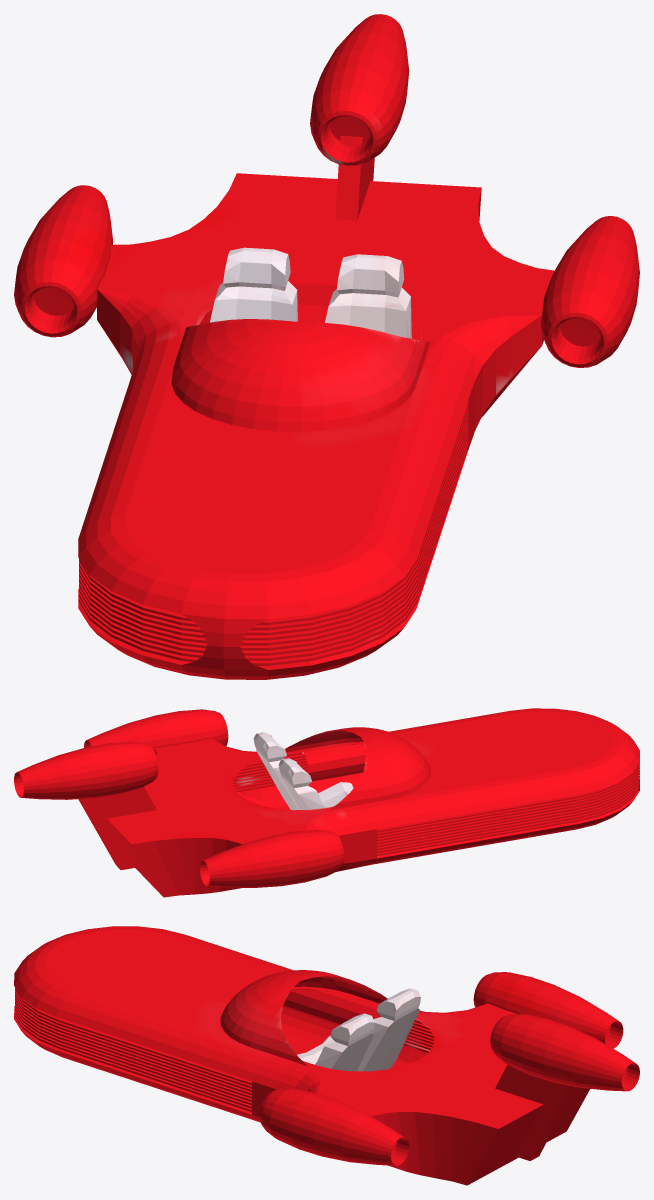
File: car.glb
The picture shows the model from 3 angles, top to bottom: view 1: azimuth 30°, elevation 25°; view 2: azimuth 150°, elevation 25°; view 3: azimuth 270°, elevation 25°; orthographic projection. The views are drawn at different scales.
Visible parts, largest first — view 1: imagetostl_mesh0; view 2: imagetostl_mesh0; view 3: imagetostl_mesh0.
Boxes of the visible parts, x1=… form: imagetostl_mesh0: x1=14, y1=14, x2=639, y2=679; imagetostl_mesh0: x1=14, y1=708, x2=639, y2=897; imagetostl_mesh0: x1=14, y1=926, x2=639, y2=1185.
Size of the model in its own units: 74.47 by 21.42 by 83.61.
1 material, 1 textured.
